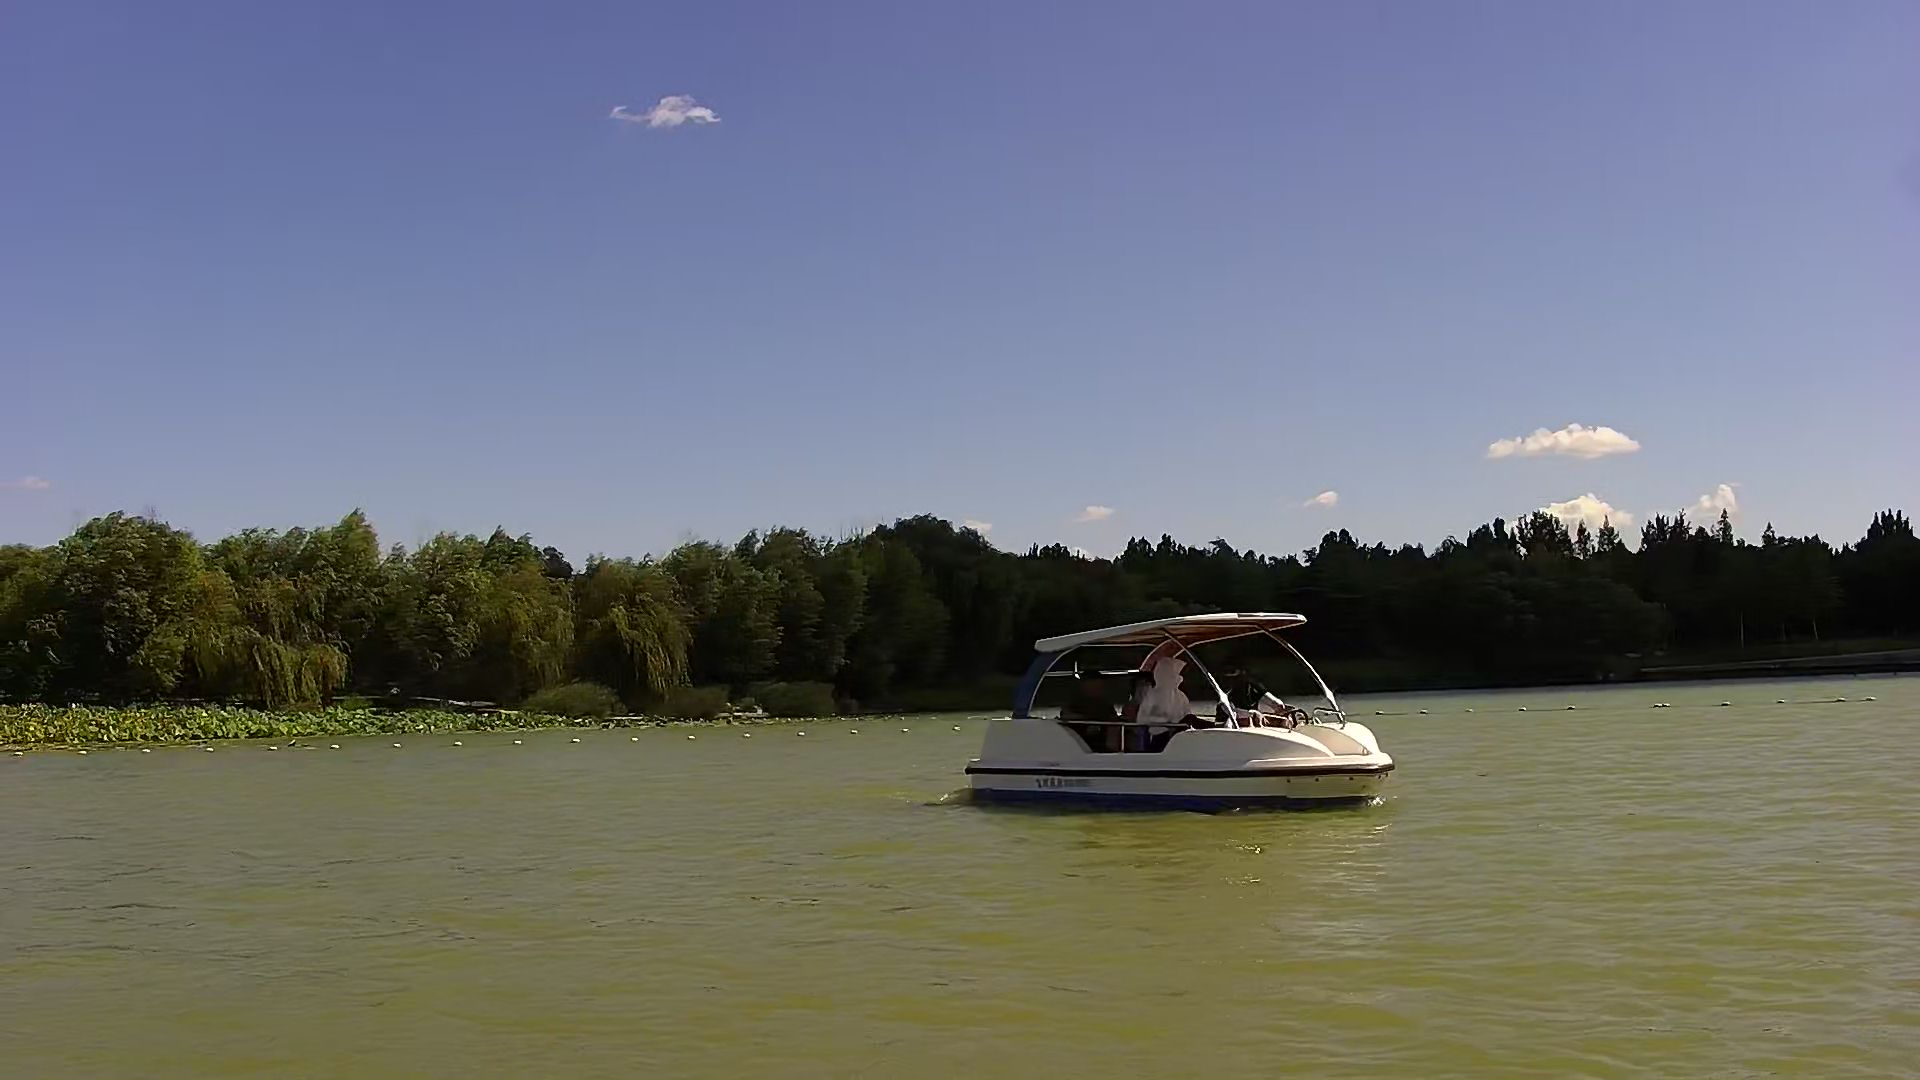boat: (947, 611, 1418, 808)
